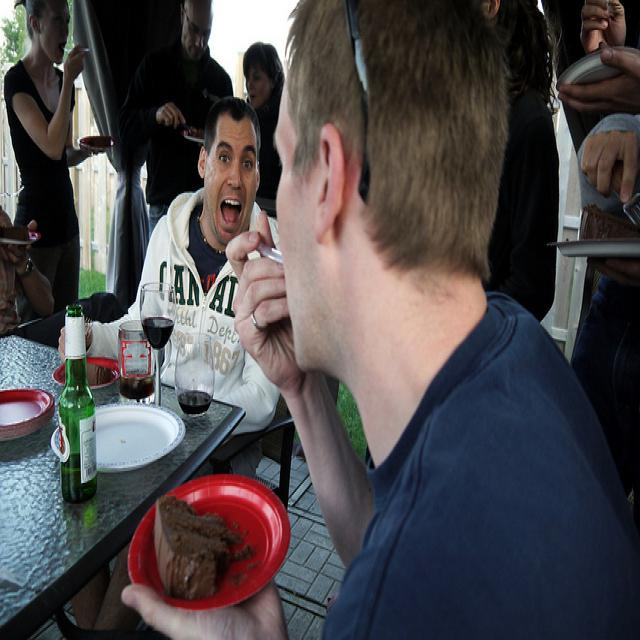chair: (214, 403, 295, 511)
dining table: (0, 332, 246, 628)
